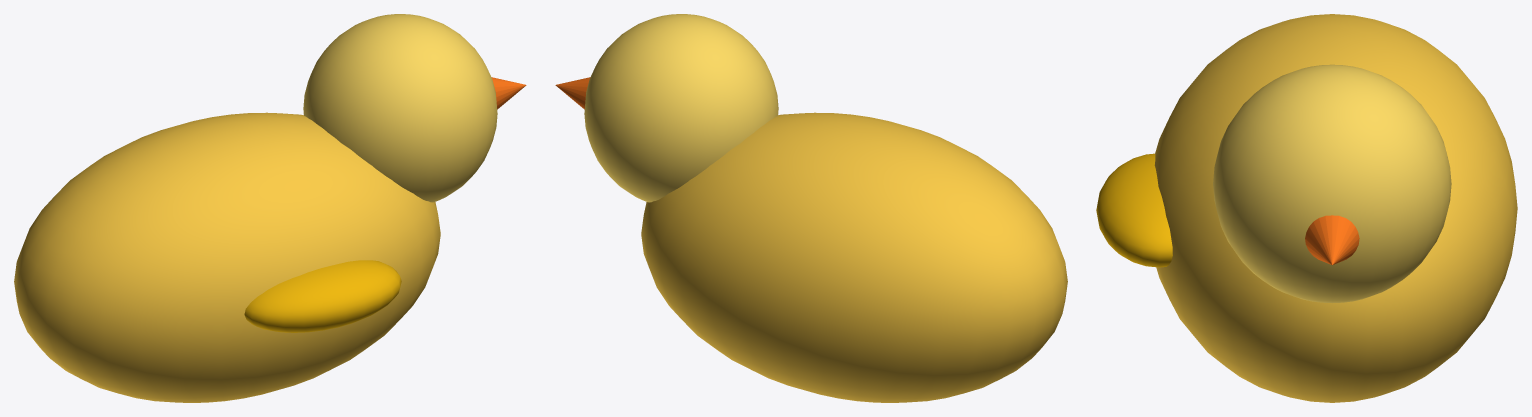
The model's file is custom-duck.glb.
The picture shows the model from 3 angles, left to right: view 1: azimuth 30°, elevation 25°; view 2: azimuth 150°, elevation 25°; view 3: azimuth 270°, elevation 25°; orthographic projection. The views are drawn at different scales.
Bounding box in the file's own units: 2.25 × 1.37 × 1.34.
